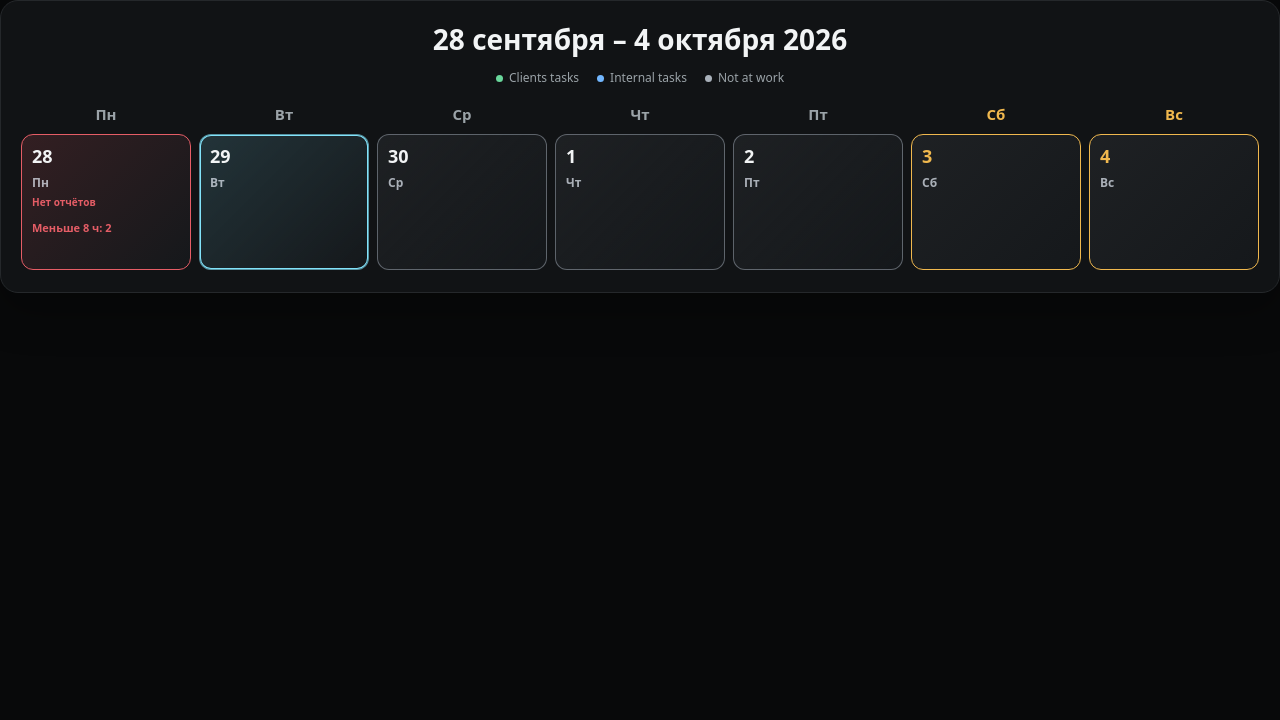
week calendar hour warnings › opens a day with no reports and lists only the employees missing hours
This screenshot has width=1280, height=720.
Expected: the text "Меньше 8 ч: 2" is shown, [32, 220, 112, 235]
Click the button named "Все отчёты за 28: 0".
click(106, 157)  # box [32, 147, 180, 166]
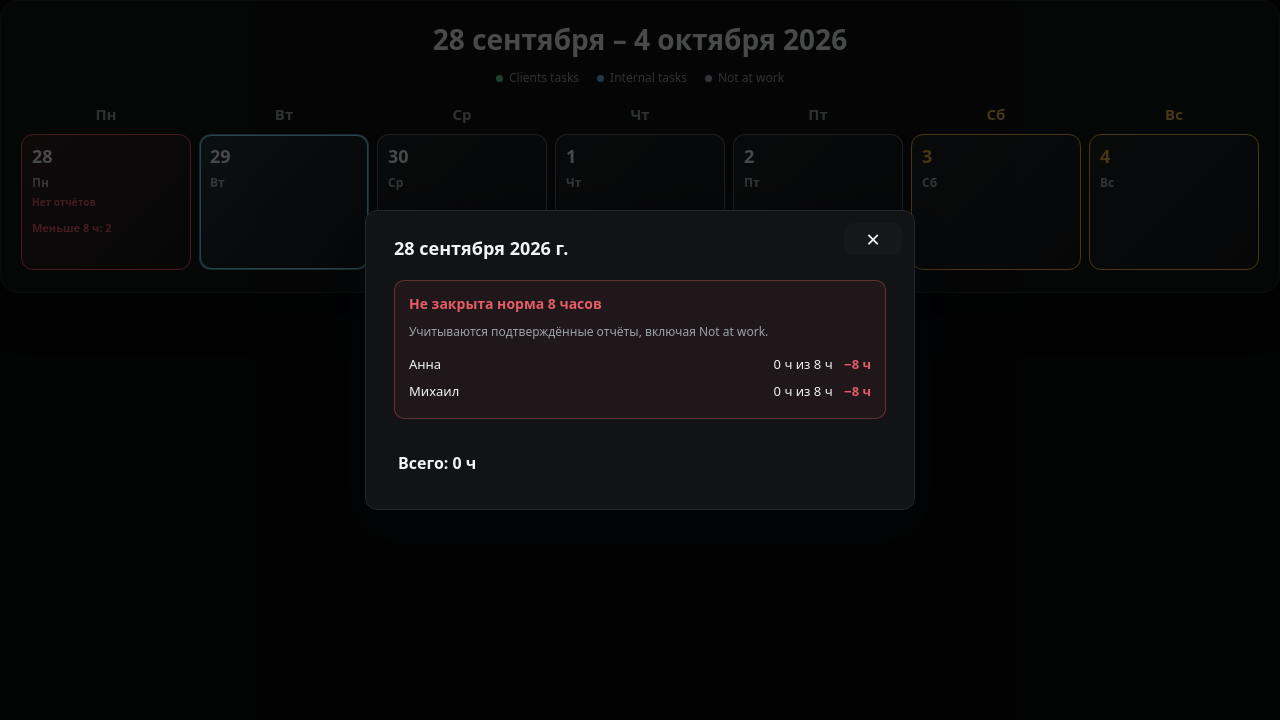
Result: the dialog named "Недостающие часы" is shown at [365, 210, 915, 510]
Result: the text "Анна" is shown at [409, 355, 441, 374]
Result: the text "Михаил" is shown at [409, 382, 459, 402]
